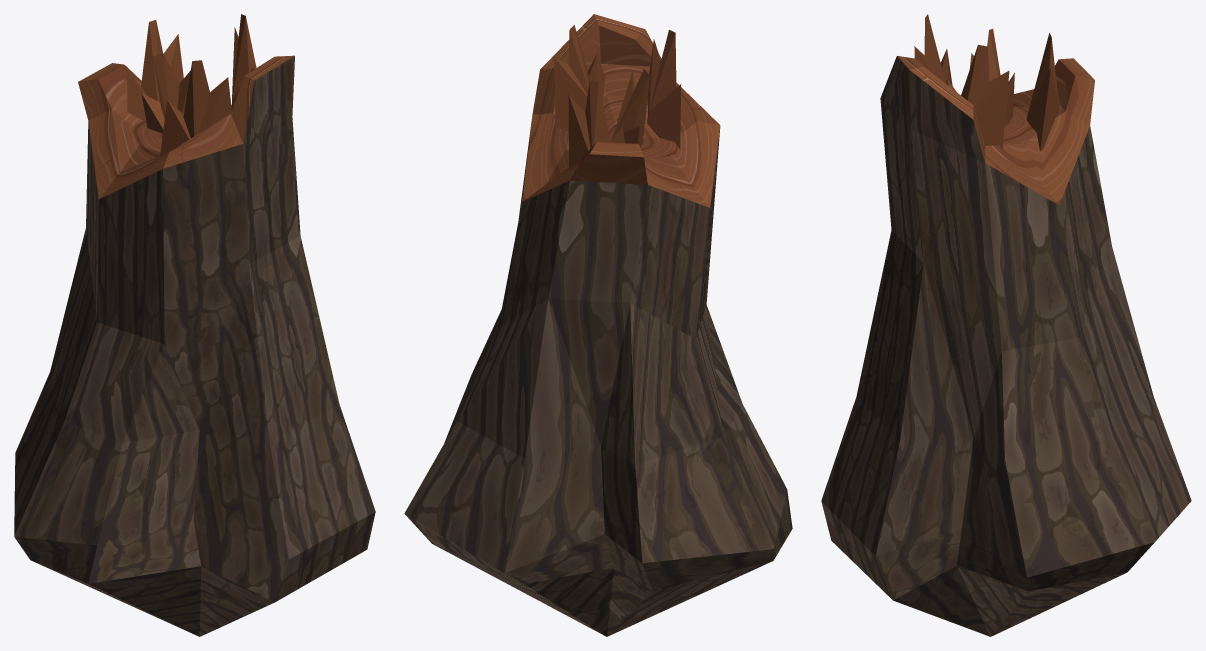
Rendered from Tree_Stump_03.fbx.
3 views of the same model, side by side, from view 1: azimuth 30°, elevation 25°; view 2: azimuth 150°, elevation 25°; view 3: azimuth 270°, elevation 25° (orthographic). The views are drawn at different scales.
Parts seen in each view (by area): view 1: SM_Tree_Stump_03; view 2: SM_Tree_Stump_03; view 3: SM_Tree_Stump_03.
Part boxes in pixels (<box>): SM_Tree_Stump_03: <box>14,14,375,636</box>; SM_Tree_Stump_03: <box>404,14,792,636</box>; SM_Tree_Stump_03: <box>821,14,1191,636</box>.
Size of the model in its own units: 79.21 by 136 by 74.92.
